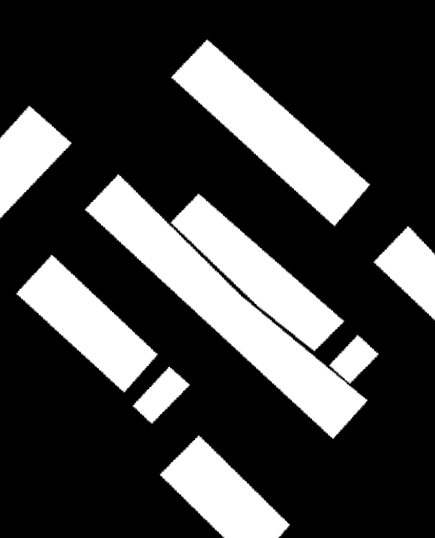parkingspot: (85, 174, 367, 439), (171, 40, 370, 226), (171, 194, 344, 351), (16, 255, 158, 392), (160, 436, 290, 538), (0, 106, 72, 218), (374, 226, 435, 320), (133, 367, 190, 423), (329, 335, 378, 384)
